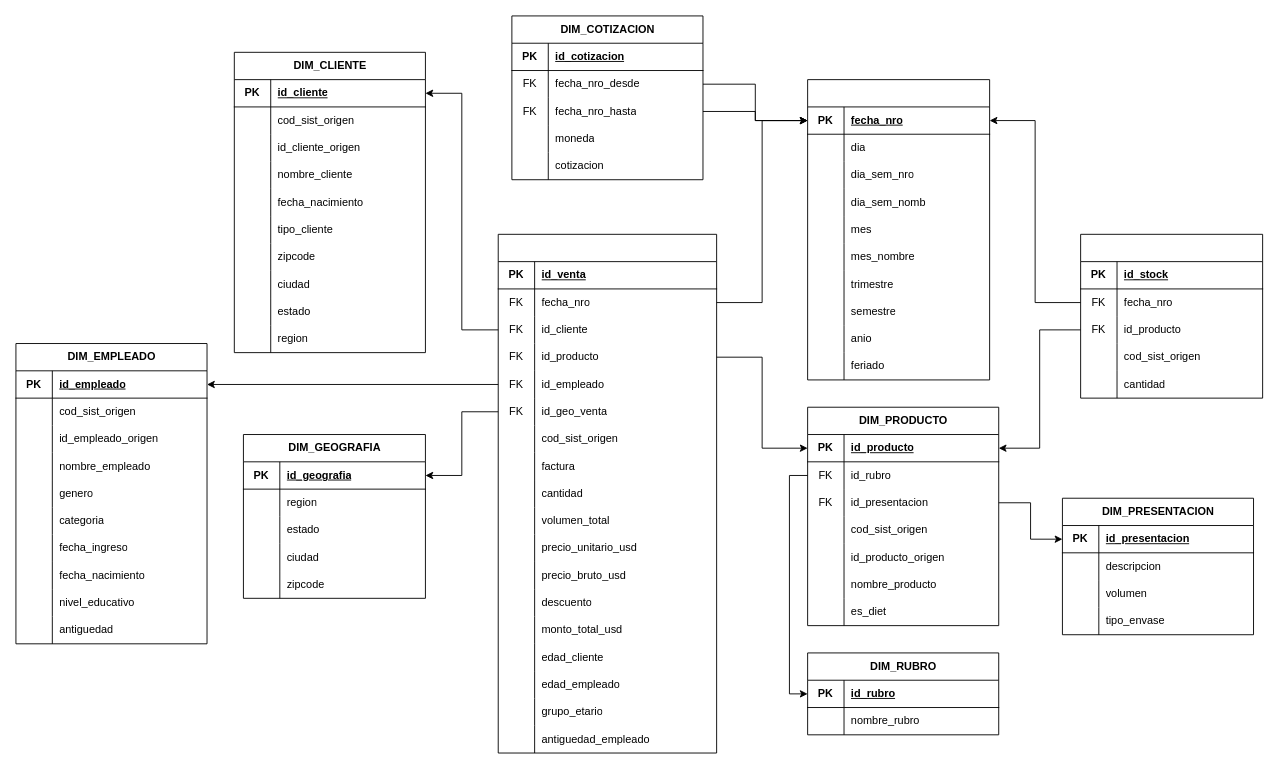
The diagram is 1279 pixels wide and 769 high, and some of its shapes have lost their labels. Here are the shapes that lost their labels. From the top down, the box of each, then its label:
(807, 79, 990, 380): DIM_FECHA
(1080, 233, 1263, 398): FCT_STOCK
(497, 233, 717, 753): FCT_VENTAS
